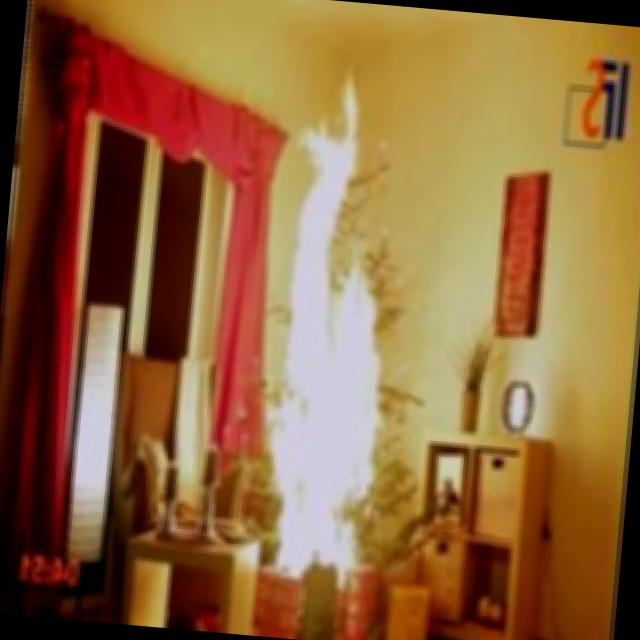fire: (242, 64, 428, 589)
